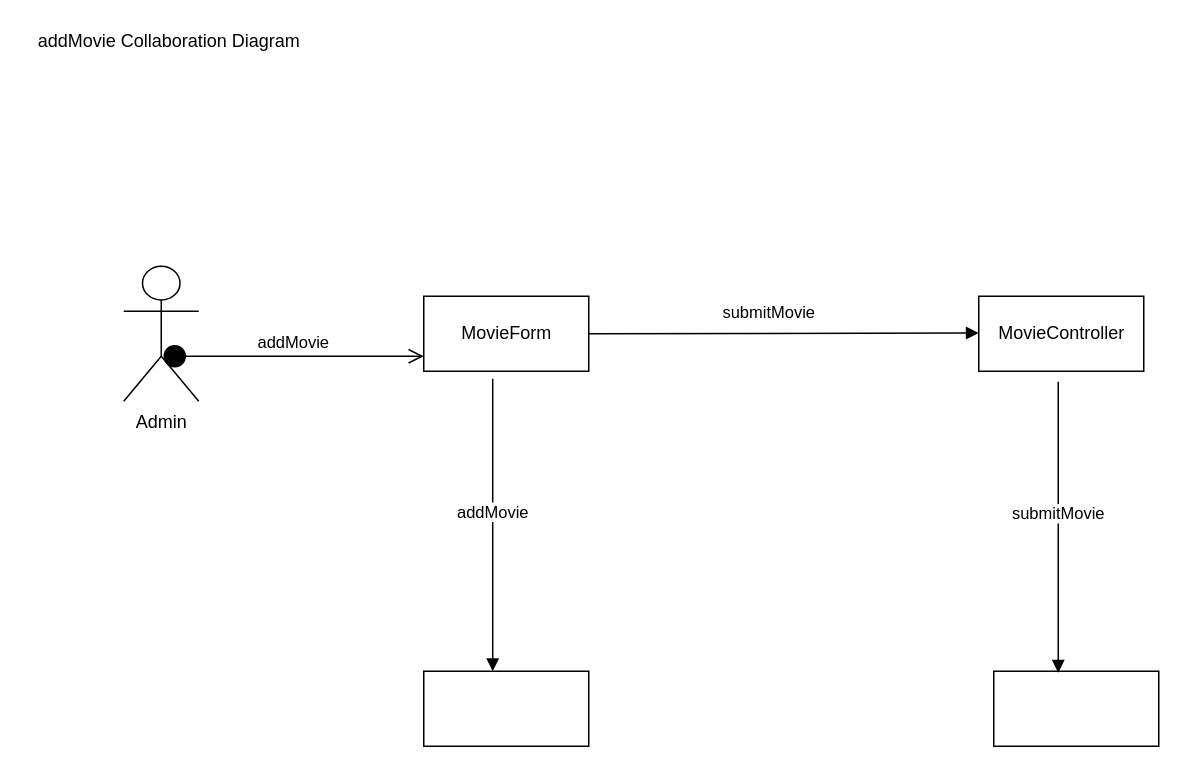
This 1185x773 diagram has some shape labels left out. Here are the shapes that lost their labels. From the top down, the centre of each, then its label:
At point (505, 708): "Movie".
At point (1075, 708): "MovieRepo".
